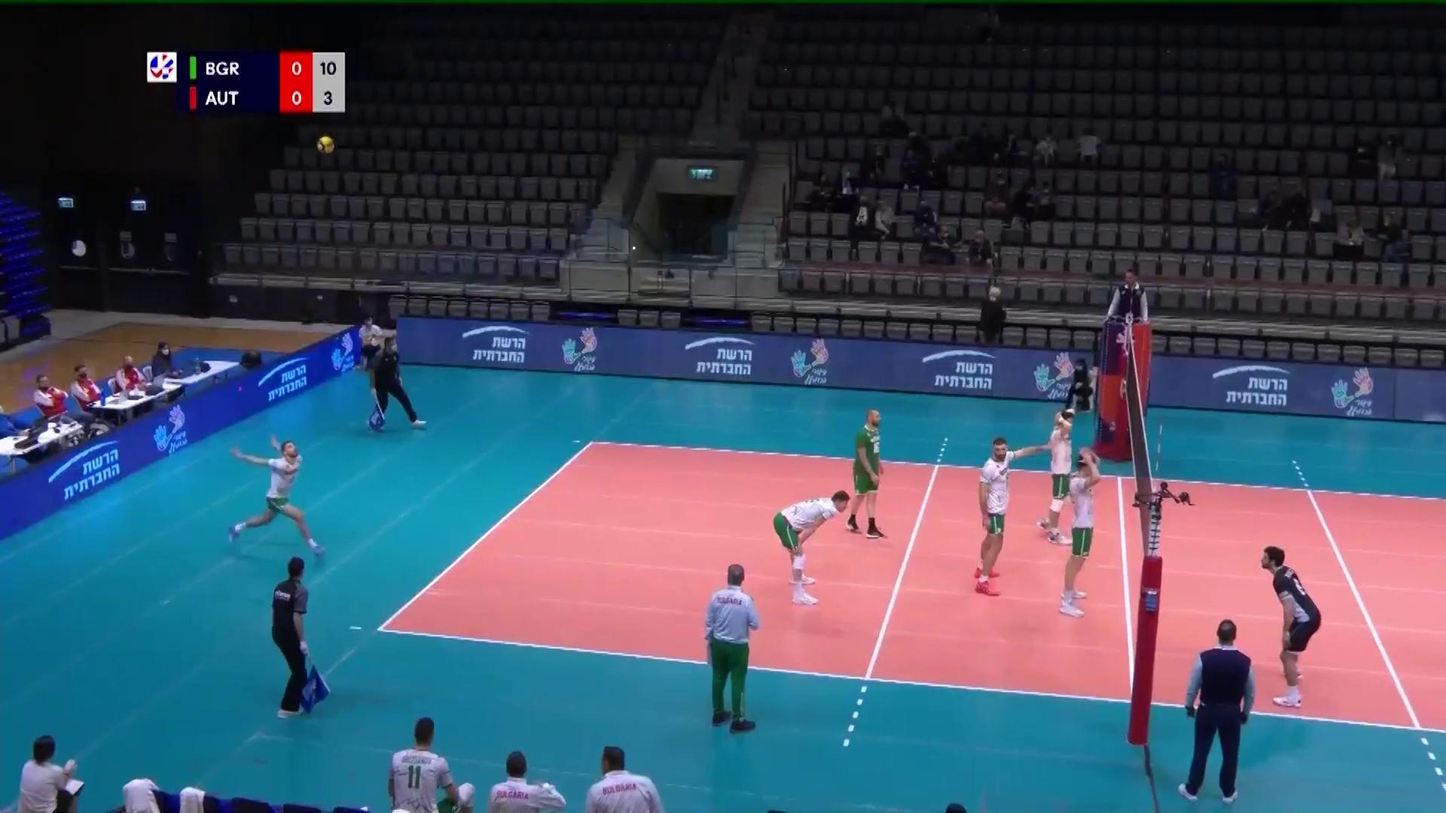ball: (317, 134, 335, 157)
